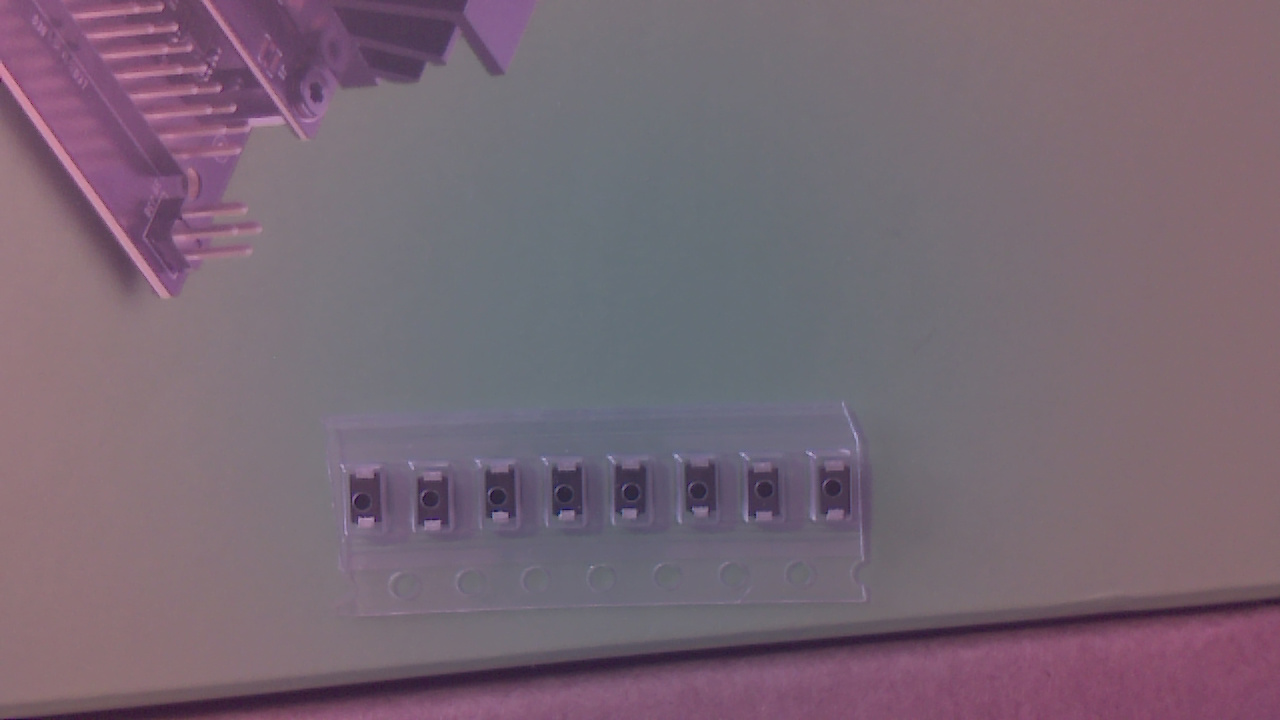Diode: (616, 462, 654, 527), (351, 470, 390, 532), (421, 469, 457, 536), (554, 465, 592, 527), (752, 466, 788, 530), (487, 468, 522, 533), (688, 461, 723, 526), (823, 463, 857, 526)
